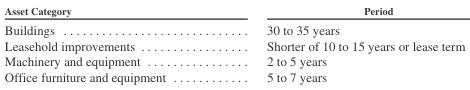table: (3, 3, 464, 83)
table column: (215, 3, 464, 83), (3, 3, 215, 83)
table column header: (3, 3, 464, 19)
table row: (3, 19, 464, 37), (3, 3, 464, 19), (3, 37, 464, 53), (3, 53, 464, 68), (3, 68, 464, 83)
